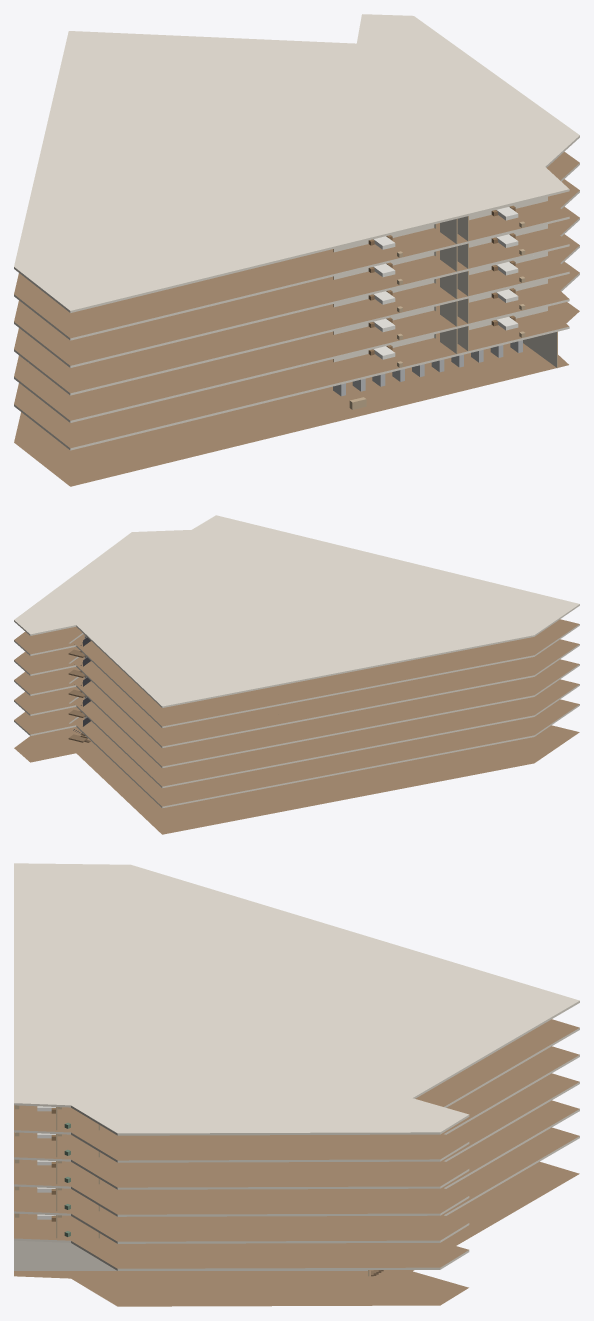
Rendered from interior.glb.
The picture shows the model from 3 angles, top to bottom: view 1: azimuth 30°, elevation 25°; view 2: azimuth 150°, elevation 25°; view 3: azimuth 270°, elevation 25°; orthographic projection. The views are drawn at different scales.
Visible parts, largest first — view 1: slabs, partitions, coarse-s0, coarse-s1, coarse-s3, coarse-s5, coarse-s2, coarse-s4; view 2: slabs, stair; view 3: slabs, partitions.
Boxes of the visible parts, x1,y1,x2,y2 form: slabs: [14, 14, 579, 486]; partitions: [333, 196, 557, 368]; coarse-s0: [333, 340, 522, 409]; coarse-s1: [368, 315, 525, 367]; coarse-s3: [368, 260, 525, 312]; coarse-s5: [368, 205, 525, 257]; coarse-s2: [368, 288, 525, 339]; coarse-s4: [368, 233, 525, 284]; slabs: [14, 515, 579, 834]; stair: [68, 636, 90, 742]; slabs: [14, 863, 579, 1306]; partitions: [14, 1107, 369, 1276].
Size of the model in its own units: 68.5 by 20.5 by 60.65.
